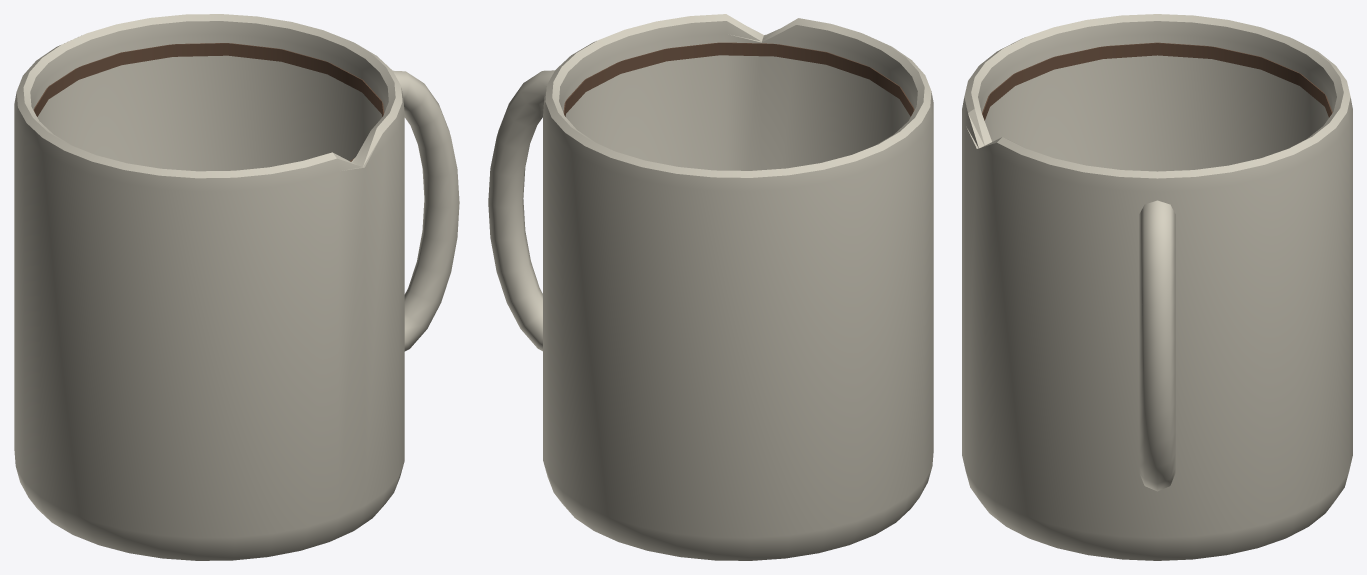
The model's file is coffee-mug-empty-90d04fb3722e.glb.
3 views of the same model, side by side, from view 1: azimuth 30°, elevation 25°; view 2: azimuth 150°, elevation 25°; view 3: azimuth 270°, elevation 25° (orthographic).
Visible parts, largest first — view 1: enamel, wood; view 2: enamel, wood; view 3: enamel, wood.
Part boxes in pixels (x1,y1,x2,y2): enamel: (14,14,459,560); wood: (33,43,384,161); enamel: (488,14,933,560); wood: (563,42,914,116); enamel: (962,14,1352,560); wood: (982,42,1332,120).
Bounding box in the file's own units: 0.106 × 0.096 × 0.086.
